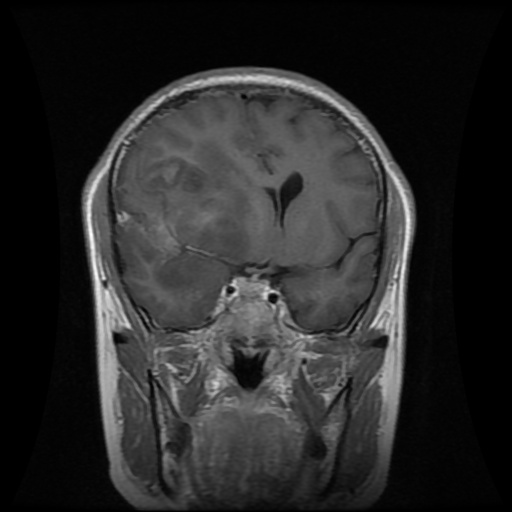glioma: (119, 139, 252, 293)
